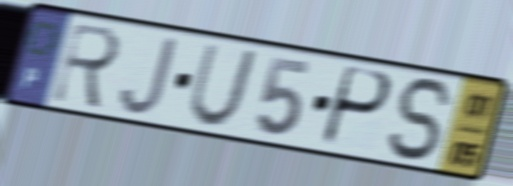5: (254, 53, 317, 139)
J: (117, 33, 181, 118)
P: (316, 63, 396, 151)
R: (47, 19, 125, 114)
S: (386, 74, 458, 165)
U: (185, 42, 262, 131)
